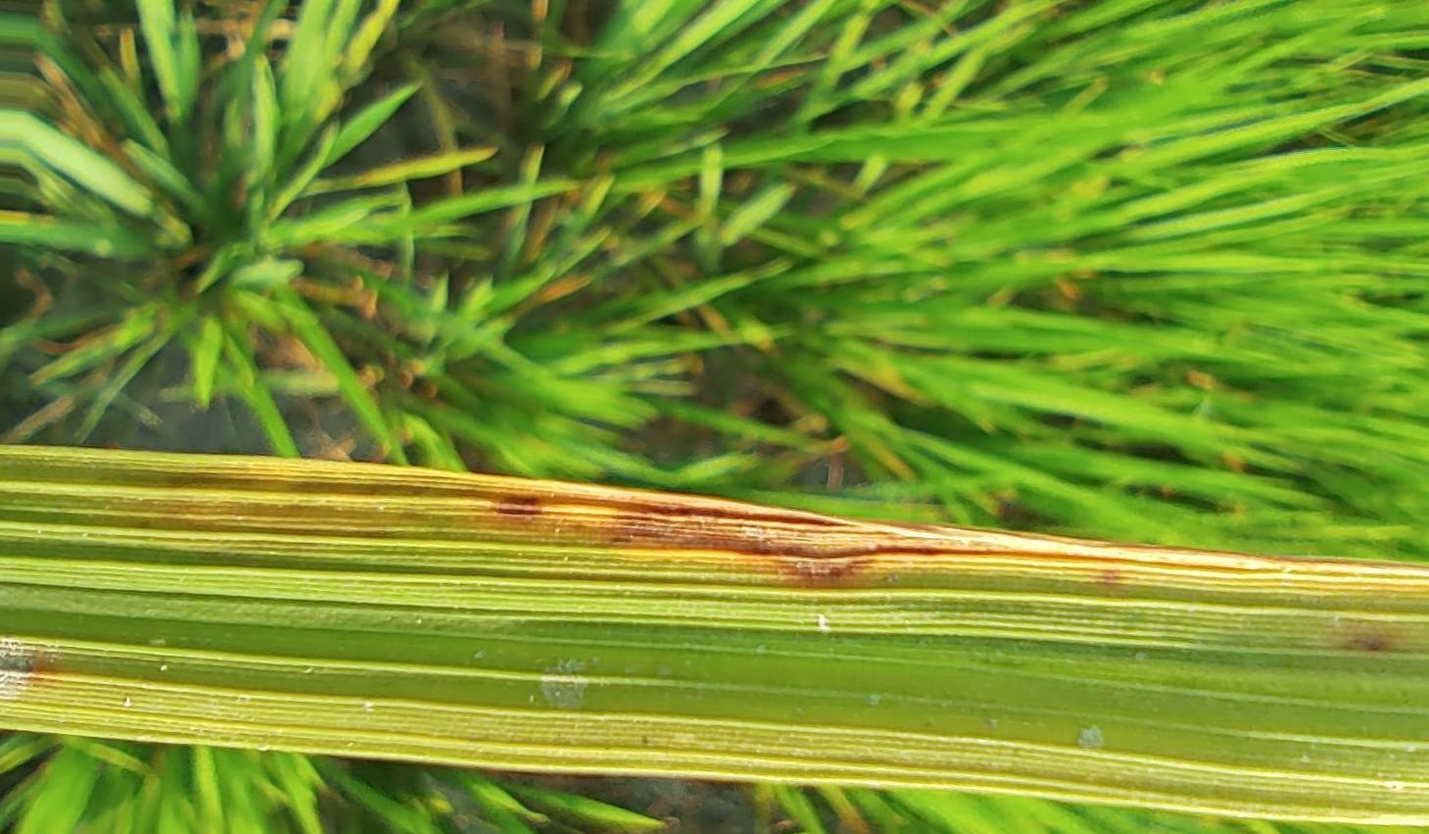LEAF: (0, 445, 1428, 824)
LEAF BLAST: (608, 501, 1030, 579)
